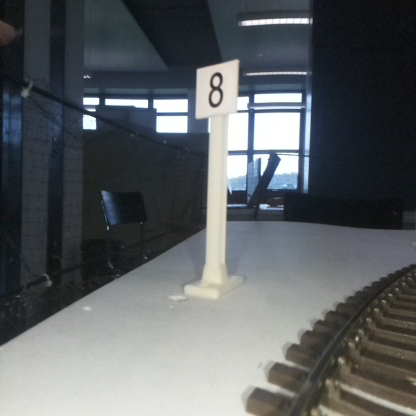white-info-8: (196, 62, 238, 295)
